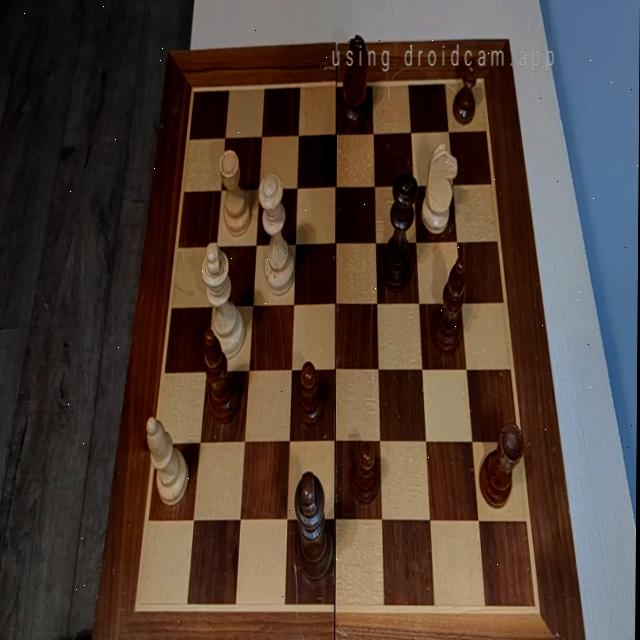black_bishop: (203, 328, 242, 423), (431, 257, 468, 357)
black_king: (295, 472, 335, 582)
black_knight: (341, 32, 370, 128)
black_pawn: (452, 58, 479, 126), (351, 442, 380, 504), (297, 360, 323, 428)
black_queen: (381, 172, 417, 288)
black_rook: (480, 423, 524, 508)
white_bishop: (147, 417, 190, 508)
white_king: (201, 241, 246, 359)
white_knight: (422, 143, 459, 235)
white_queen: (257, 172, 296, 296)
white_rook: (219, 148, 252, 238)
